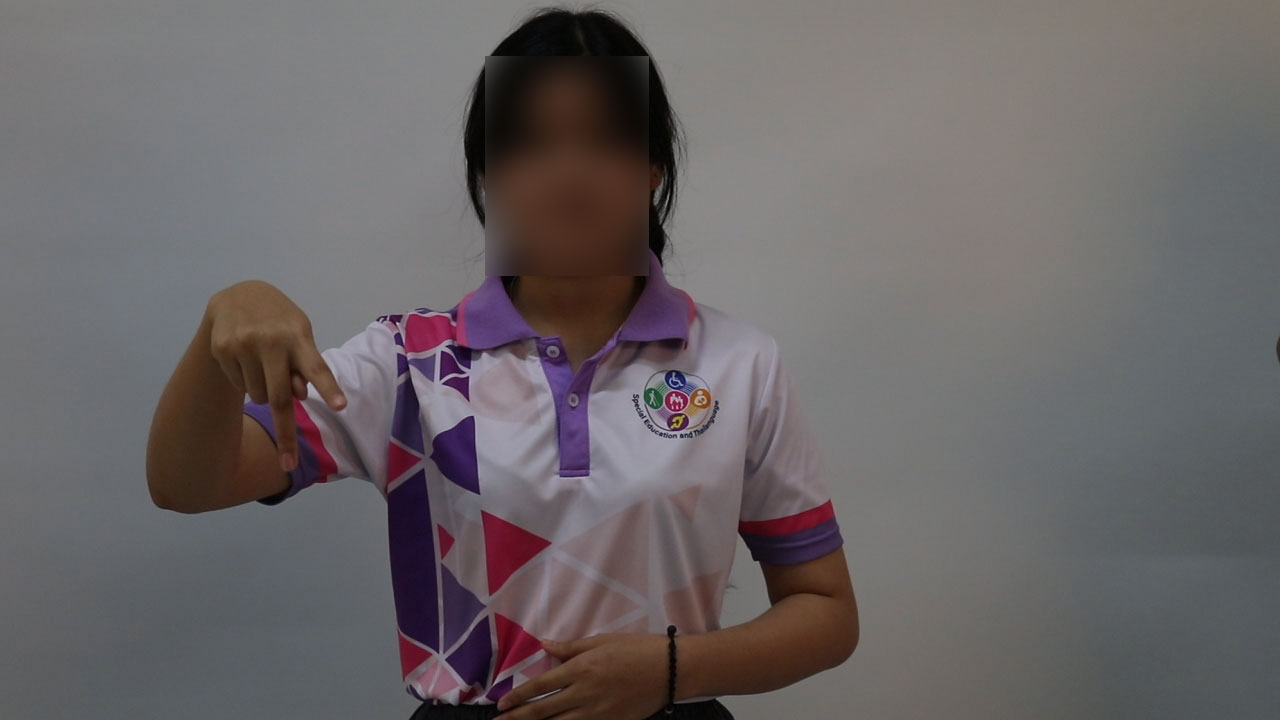por: (192, 265, 365, 483)
